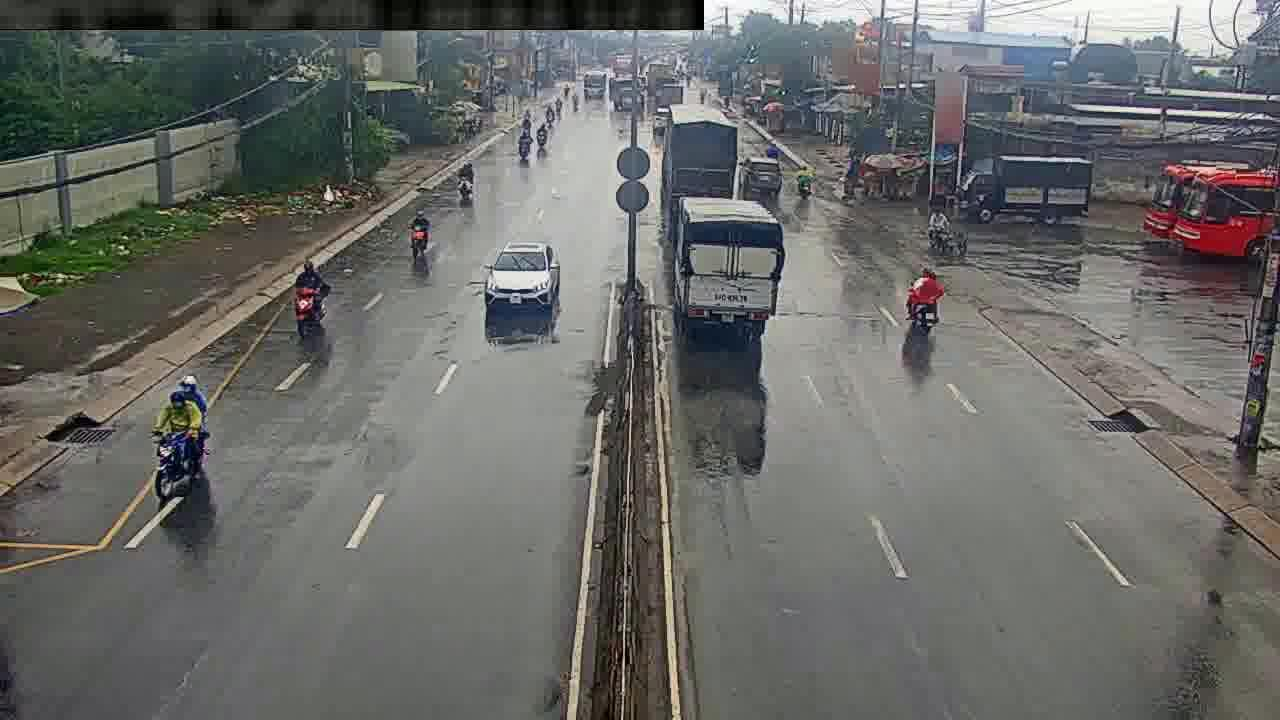8: (673, 186, 778, 324), (662, 101, 738, 192)
container: (482, 241, 557, 315), (740, 156, 781, 191)
motorbike: (158, 382, 209, 503), (294, 255, 327, 334), (912, 269, 938, 335), (408, 206, 435, 265), (457, 157, 476, 206), (796, 162, 814, 199), (517, 131, 532, 160)
